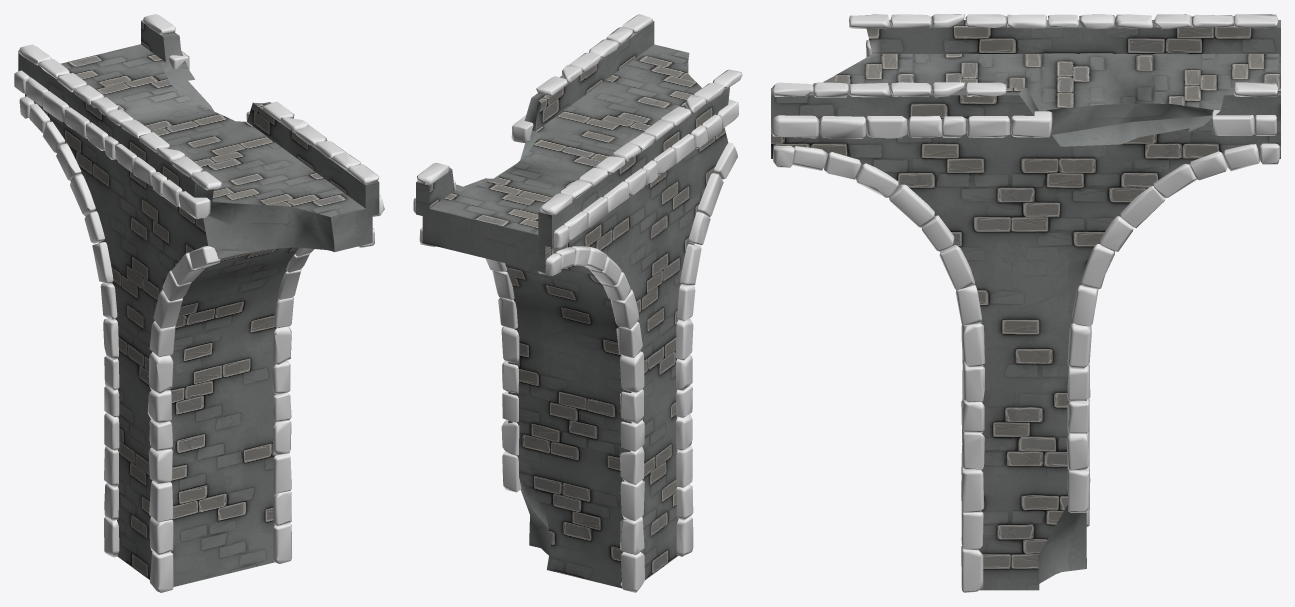
The model's file is SM_Bridge_Full_Broken_02.fbx.
3 renders of one model, left to right at view 1: azimuth 30°, elevation 25°; view 2: azimuth 150°, elevation 25°; view 3: azimuth 270°, elevation 25°, orthographic. The views are drawn at different scales.
Parts seen in each view (by area): view 1: Bridge_Full_Broken_02_LOD0; view 2: Bridge_Full_Broken_02_LOD0; view 3: Bridge_Full_Broken_02_LOD0.
Part boxes in pixels (x1=…): Bridge_Full_Broken_02_LOD0: x1=14, y1=14, x2=384, y2=592; Bridge_Full_Broken_02_LOD0: x1=413, y1=14, x2=742, y2=592; Bridge_Full_Broken_02_LOD0: x1=771, y1=14, x2=1280, y2=592.
Size of what is drawn, in the model's own units: 5.44 by 15.36 by 14.01.
